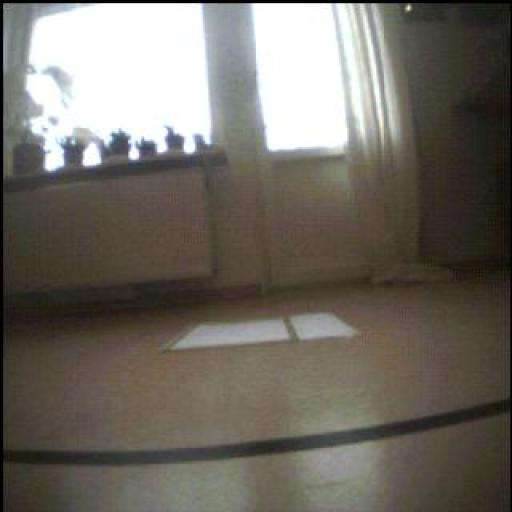Pad: (174, 312, 354, 347)
